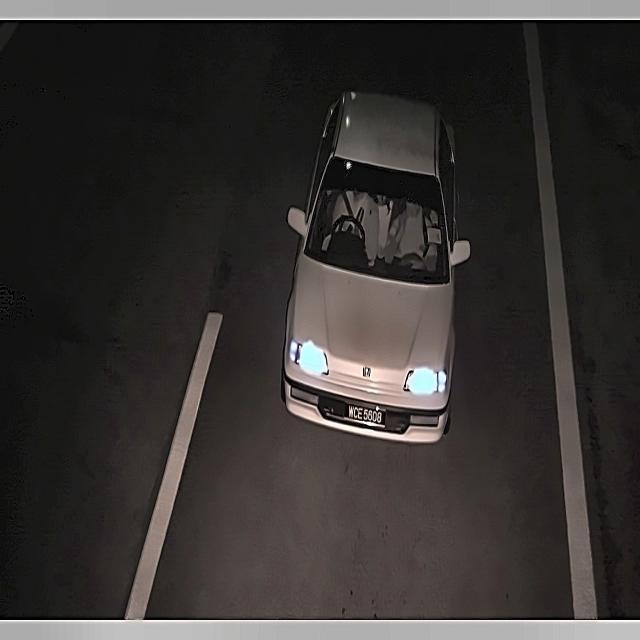car: (343, 399, 385, 431)
